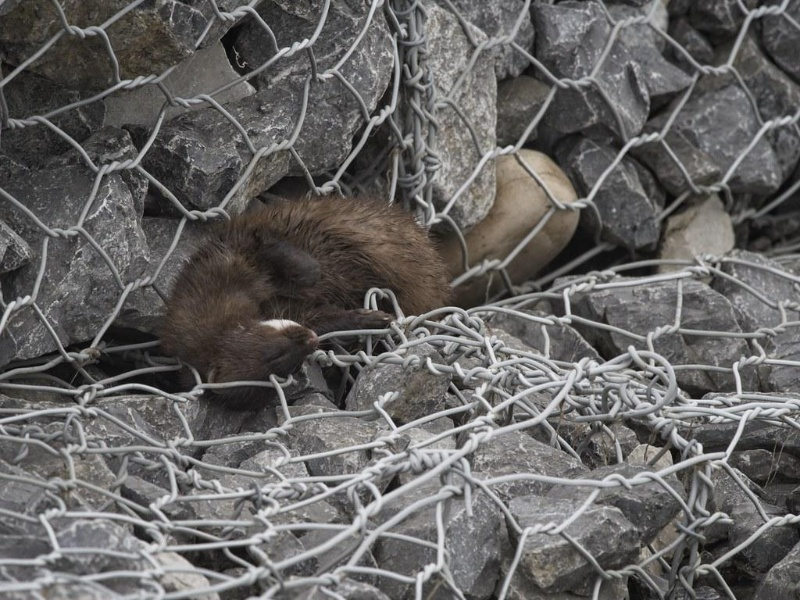minkish: (162, 188, 454, 392)
